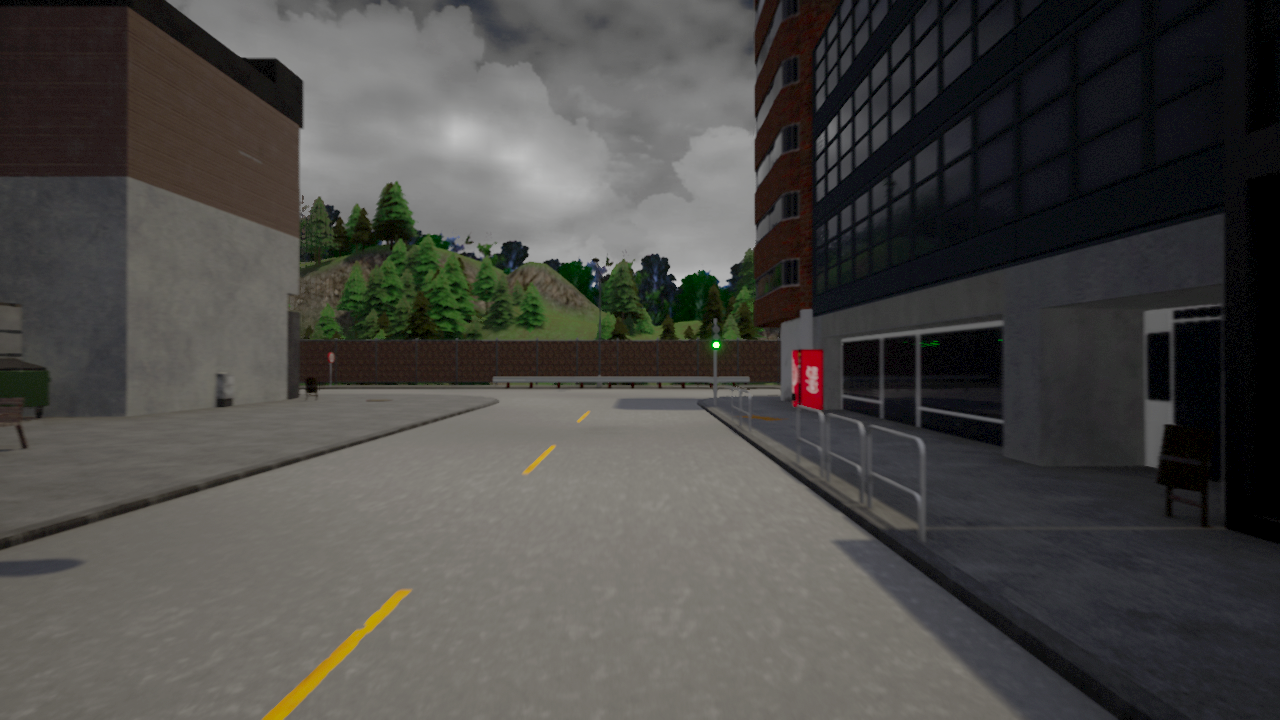green: (709, 324, 722, 350)
